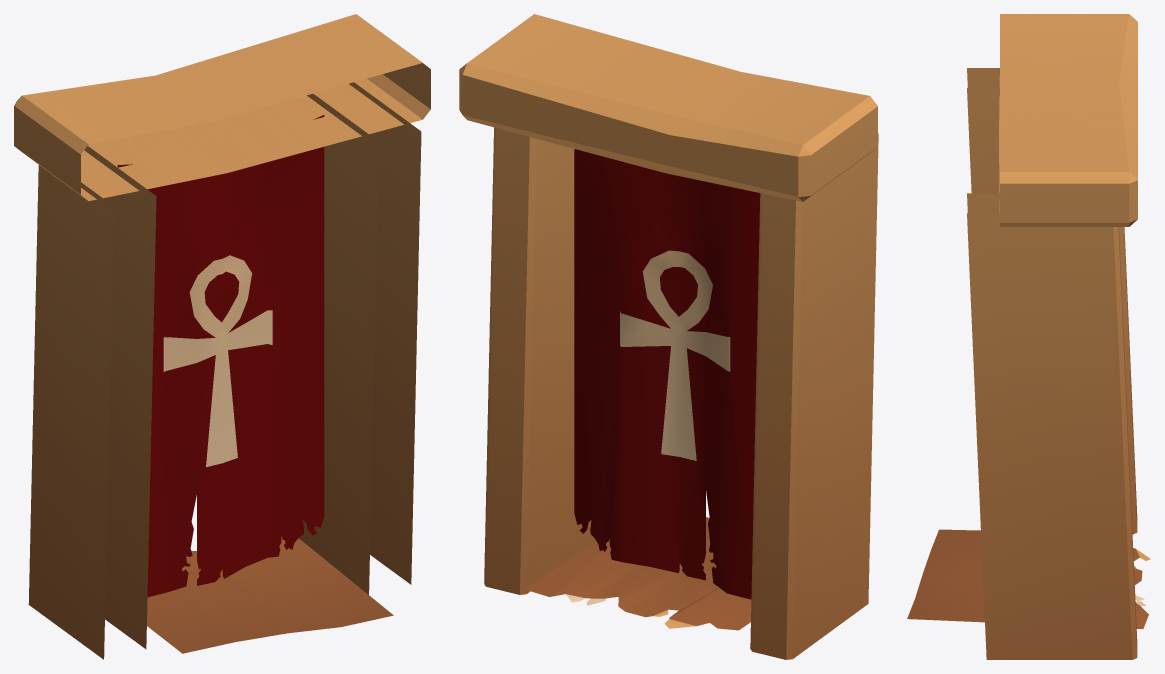
3 views of the same model, side by side, from view 1: azimuth 30°, elevation 25°; view 2: azimuth 150°, elevation 25°; view 3: azimuth 270°, elevation 25° (orthographic). The views are drawn at different scales.
Parts seen in each view (by area): view 1: diorama.011; view 2: diorama.011; view 3: diorama.011.
Boxes of the visible parts, bbox=[...] form: diorama.011: bbox=[14, 14, 430, 659]; diorama.011: bbox=[459, 14, 878, 659]; diorama.011: bbox=[907, 14, 1150, 659].
Size of the model in its own units: 105 by 147 by 65.54.
